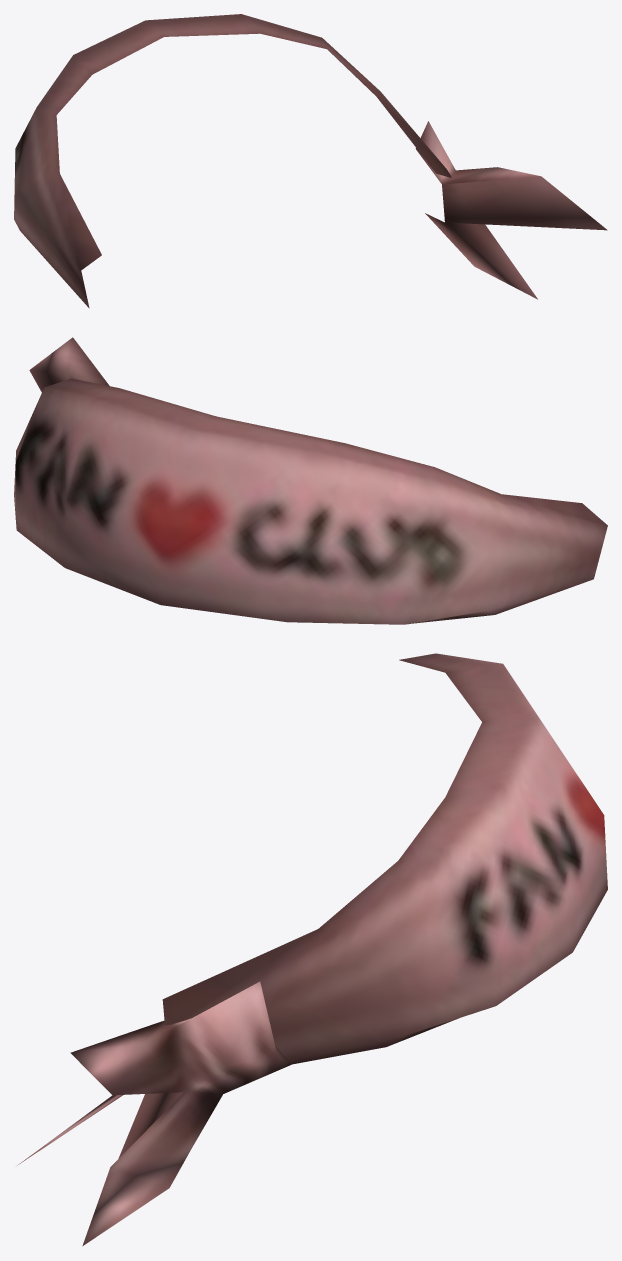
File: fcBandana.glb
3 renders of one model, top to bottom at view 1: azimuth 30°, elevation 25°; view 2: azimuth 150°, elevation 25°; view 3: azimuth 270°, elevation 25°, orthographic. The views are drawn at different scales.
Visible parts, largest first — view 1: fcBandana; view 2: fcBandana; view 3: fcBandana.
Part boxes in pixels (x1,y1,x2,y2): fcBandana: (14, 14, 607, 308); fcBandana: (14, 337, 607, 624); fcBandana: (17, 653, 607, 1246).
Size of the model in its own units: 0.3157 by 0.1449 by 0.2239.
1 material, 1 textured.
